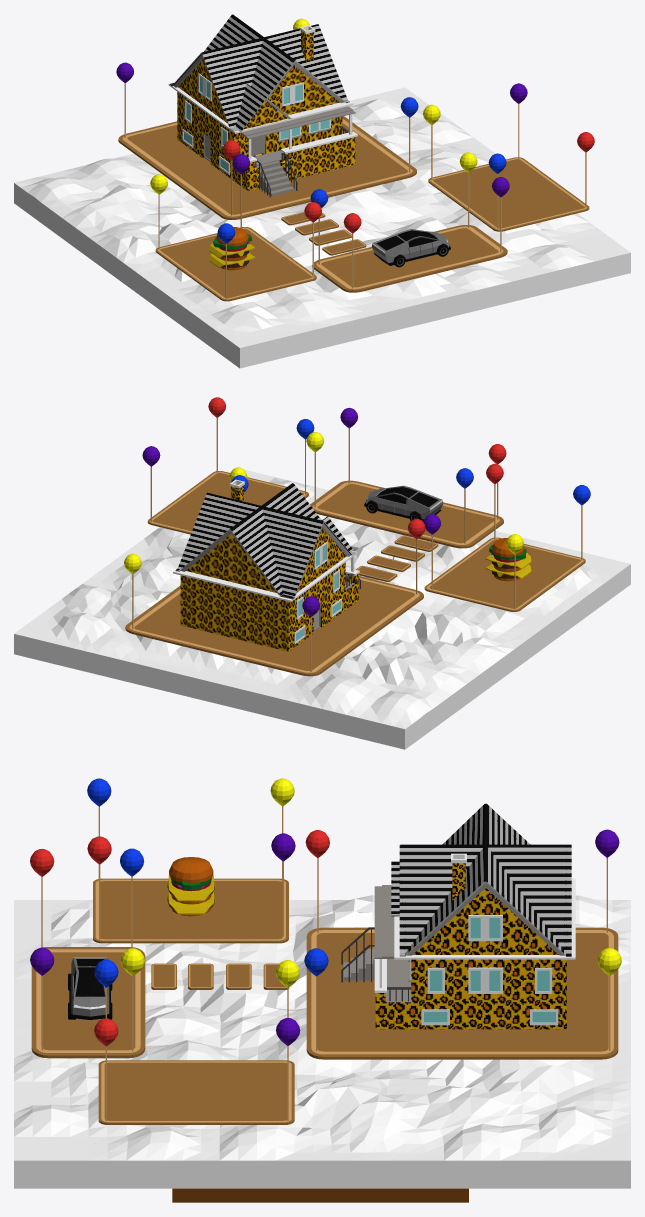
3 views of the same model, one above another, from view 1: azimuth 30°, elevation 25°; view 2: azimuth 150°, elevation 25°; view 3: azimuth 270°, elevation 25° (orthographic). The views are drawn at different scales.
Parts seen in each view (by area): view 1: Cube.013, Cube.637, VEHICLES_CYBERTRUCK, OBJRANDOM_HAMBURGER; view 2: Cube.013, Cube.637, VEHICLES_CYBERTRUCK, OBJRANDOM_HAMBURGER; view 3: Cube.013, Cube.637, UNDERGROUND_ART_PIECE_VAN_GOGH, OBJRANDOM_HAMBURGER, VEHICLES_CYBERTRUCK.
Part boxes in pixels (x1,y1,x2,y2): Cube.013: [14, 18, 630, 368]; Cube.637: [168, 14, 357, 197]; VEHICLES_CYBERTRUCK: [371, 229, 450, 267]; OBJRANDOM_HAMBURGER: [209, 227, 255, 270]; Cube.013: [14, 397, 630, 749]; Cube.637: [173, 479, 360, 651]; VEHICLES_CYBERTRUCK: [364, 485, 443, 521]; OBJRANDOM_HAMBURGER: [485, 538, 531, 581]; Cube.013: [14, 778, 630, 1188]; Cube.637: [341, 803, 575, 1029]; UNDERGROUND_ART_PIECE_VAN_GOGH: [172, 1188, 468, 1202]; OBJRANDOM_HAMBURGER: [167, 857, 215, 916]; VEHICLES_CYBERTRUCK: [68, 957, 112, 1019].
Bounding box in the file's own units: 4000 × 1813 × 4000.
29 materials, 3 textured.
